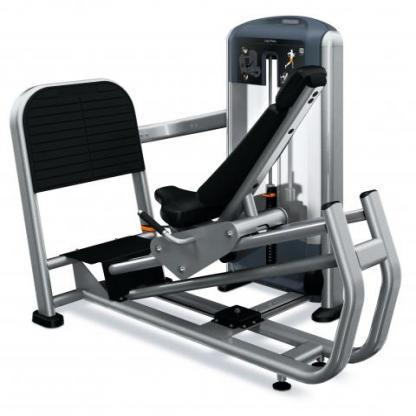leg press: (5, 13, 416, 399)
